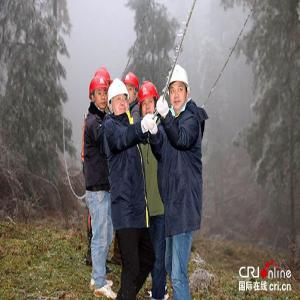red: (89, 75, 109, 112), (140, 80, 159, 116), (124, 73, 140, 104)
white: (107, 79, 129, 118), (170, 64, 189, 109)
